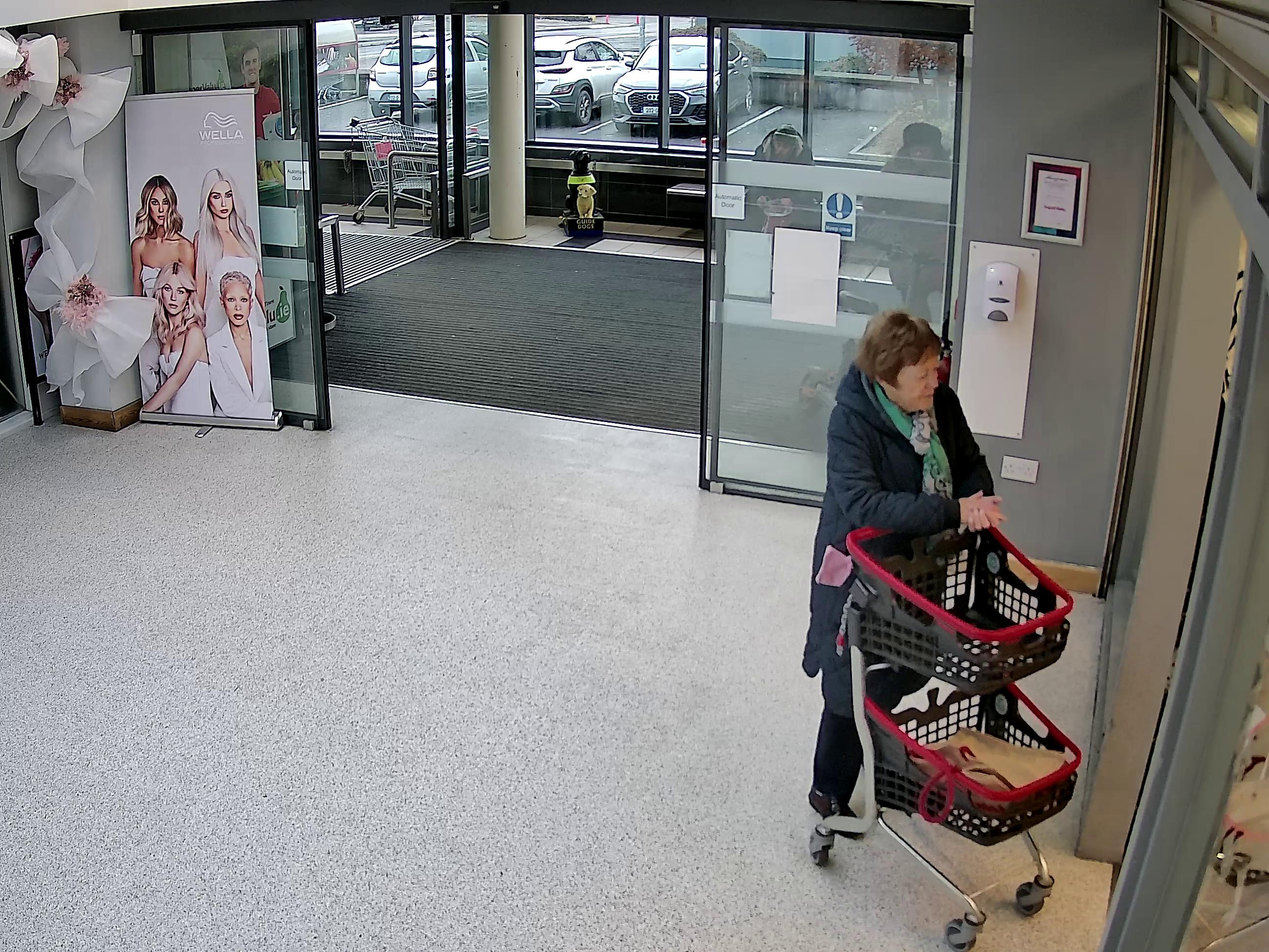empty-shopping-bags: (915, 728, 1071, 824)
empty-trolly: (807, 494, 1080, 952)
person: (798, 309, 1002, 831)
person-with-basket-trolly-and-shopping-bag: (796, 307, 1081, 952)
